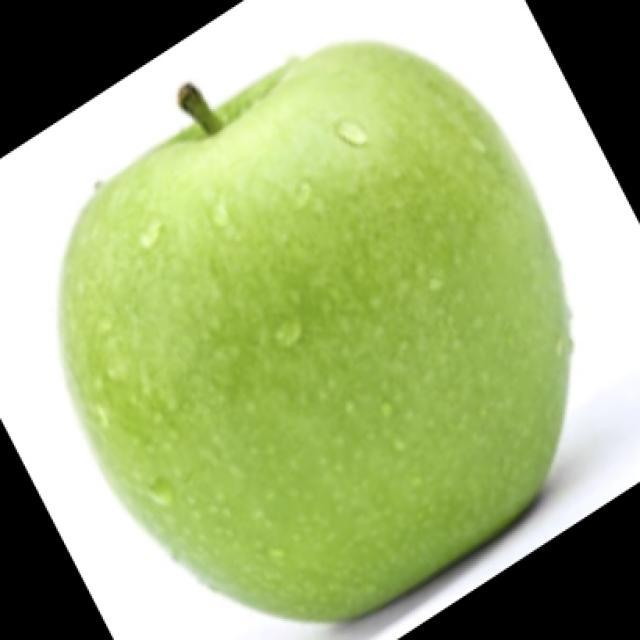Fresh Apple: (60, 48, 595, 640)
